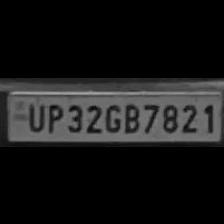1: (200, 98, 216, 132)
2: (178, 98, 198, 132), (82, 100, 102, 132)
3: (64, 99, 82, 131)
7: (140, 98, 158, 132)
8: (158, 100, 180, 132)
B: (121, 100, 139, 132)
G: (103, 100, 121, 132)
P: (43, 99, 63, 131)
U: (22, 99, 44, 130)
